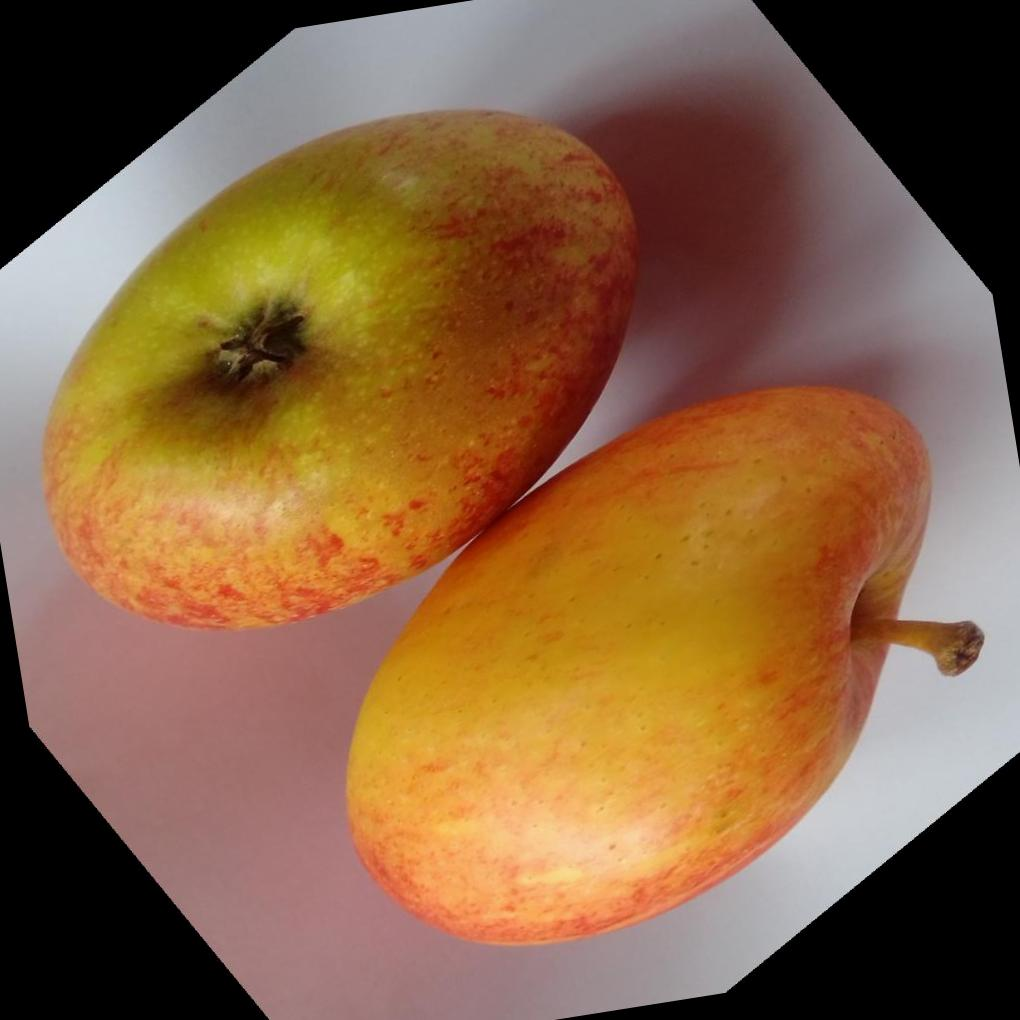FreshGuava: (35, 107, 981, 949)
